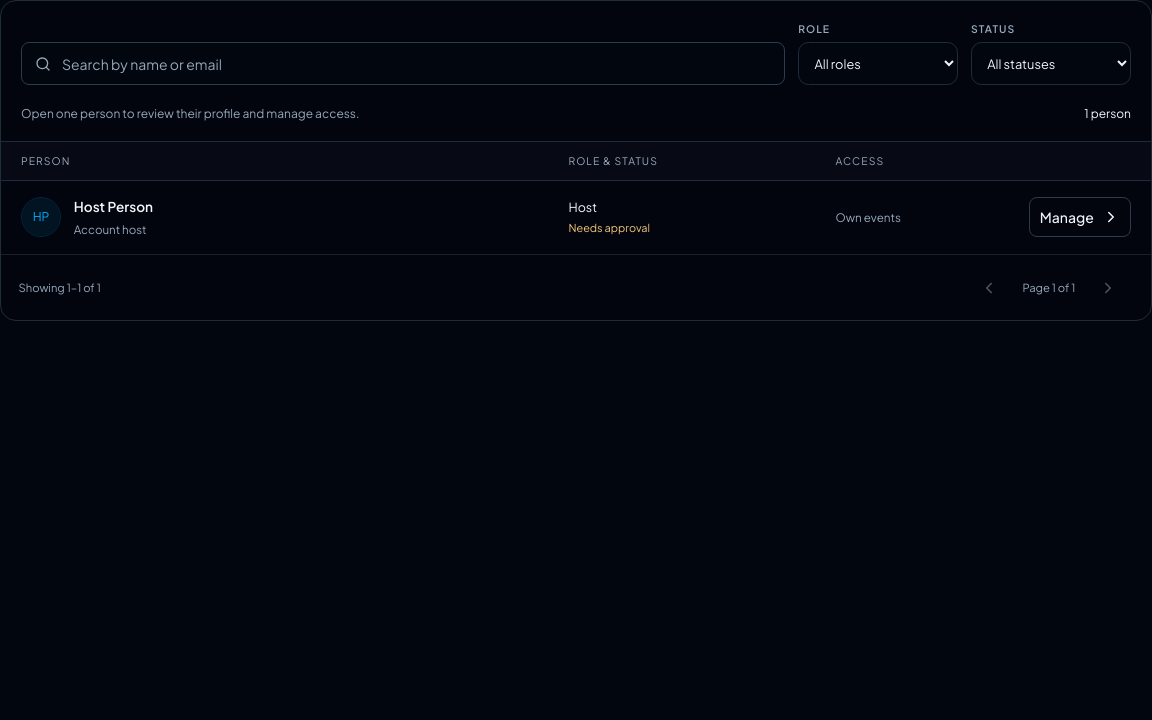
admin people directory › shows host proposal details before approving that host
Later steps or results of the test are not shown.
Click the button with aria-label "Manage Host Person".
click(1080, 217)  # box [1029,197,1131,237]
(page scrolled)
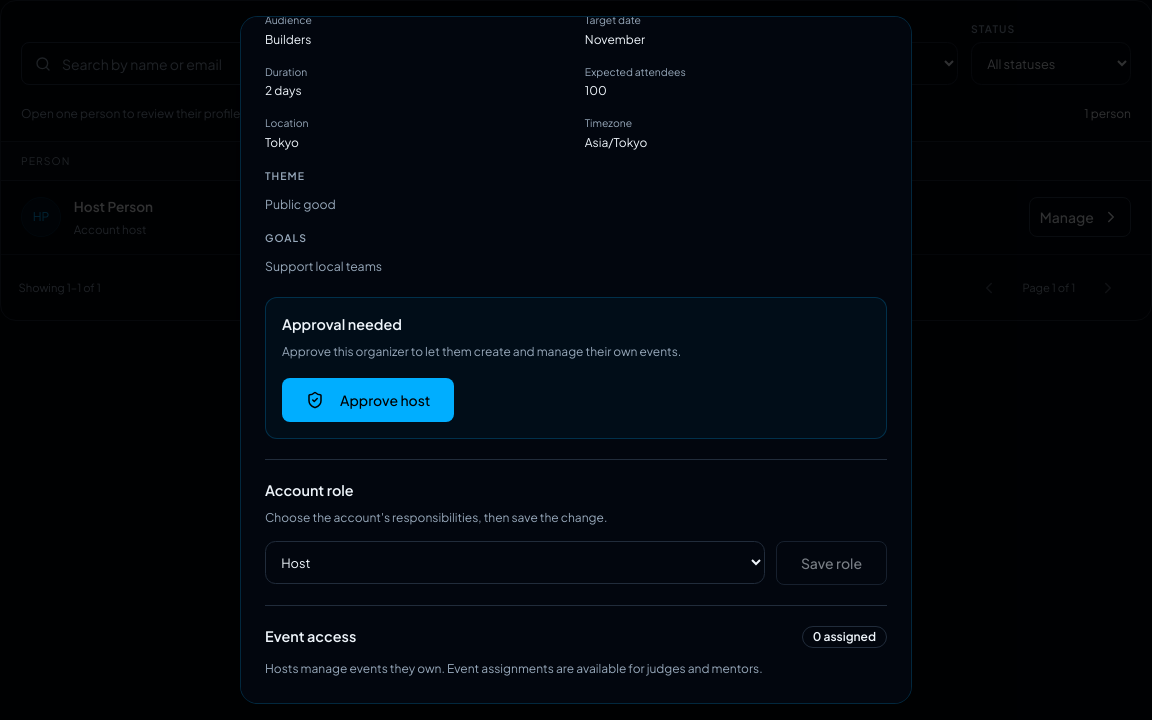
Result: the text "Support local teams" is shown at [265,258,382,274]
Result: the text "November" is shown at [585,32,645,47]
